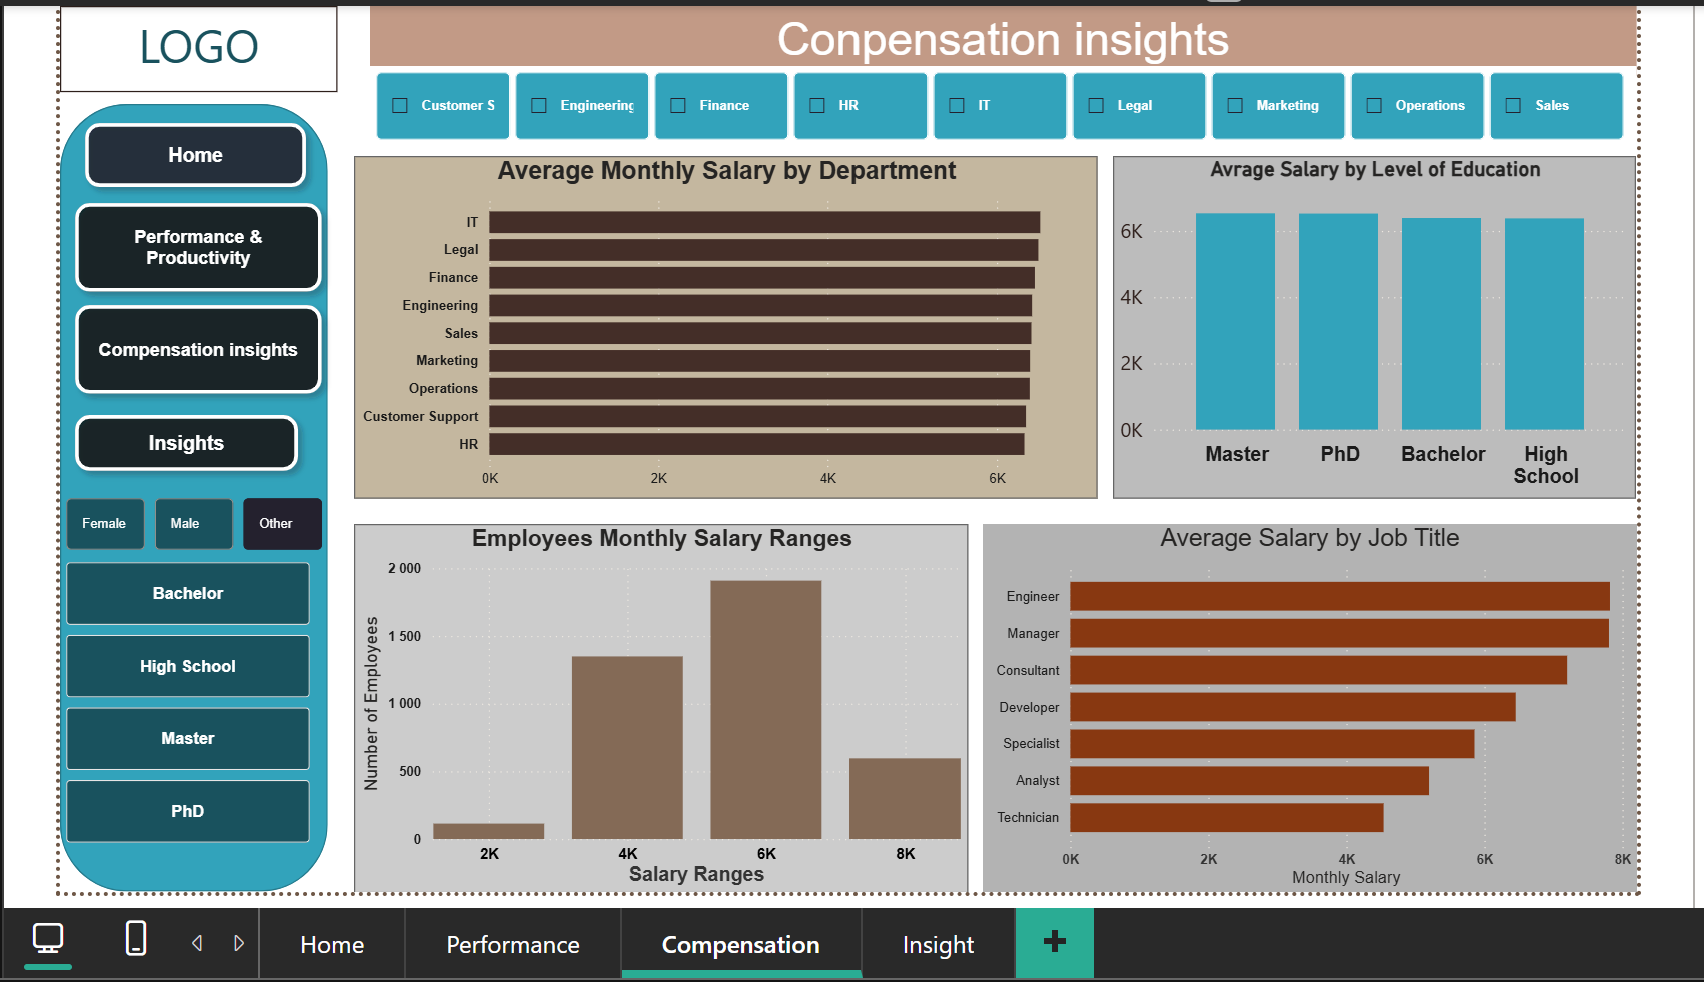

The dashboard page shown, as its layout file describes it:
{"tool":"powerbi","page":{"name":"Compensation","canvas":[1280,720],"ordinal":2},"visuals":[{"type":"clusteredColumnChart","title":"Avrage Salary by Level of Education","fields":{"Category":["Extended_Employee_Performance_and_Productivity_Data.Education_Level"],"Y":["Avg(Extended_Employee_Performance_and_Productivity_Data.Monthly_Salary)"]},"box":[855,121.7,425,278.3],"z":0},{"type":"clusteredBarChart","title":"Average Salary by Job Title","fields":{"Category":["Extended_Employee_Performance_and_Productivity_Data.Job_Title"],"Y":["Avg(Extended_Employee_Performance_and_Productivity_Data.Monthly_Salary)"]},"box":[750,421.7,531.7,300],"z":1000},{"type":"clusteredColumnChart","title":"Employees Monthly Salary Ranges","fields":{"Y":["CountNonNull(Extended_Employee_Performance_and_Productivity_Data.Employee_ID)"],"Category":["Extended_Employee_Performance_and_Productivity_Data.Monthly_Salary (bins)"]},"box":[238.3,421.7,498.3,300],"z":2000},{"type":"clusteredBarChart","title":"Average Monthly Salary by Department","fields":{"Category":["Extended_Employee_Performance_and_Productivity_Data.Department"],"Y":["Avg(Extended_Employee_Performance_and_Productivity_Data.Monthly_Salary)"]},"box":[238.3,121.7,603.3,278.3],"z":3000},{"type":"textbox","box":[251.7,0,1028.3,56.7],"z":4000},{"type":"shape","box":[0,80,217.5,640],"z":5000},{"type":"actionButton","box":[10.8,86.7,197.5,70],"z":6000},{"type":"actionButton","box":[3.3,150.8,218.3,90],"z":7000},{"type":"actionButton","box":[3.3,234.2,218.3,90],"z":8000},{"type":"advancedSlicerVisual","fields":{"Values":["Extended_Employee_Performance_and_Productivity_Data.Department"]},"box":[251.7,48.3,1028.3,65],"z":9000},{"type":"advancedSlicerVisual","fields":{"Values":["Extended_Employee_Performance_and_Productivity_Data.Gender"]},"box":[0,395,218.8,52.5],"z":10000},{"type":"advancedSlicerVisual","fields":{"Values":["Extended_Employee_Performance_and_Productivity_Data.Education_Level"]},"box":[0,447.5,208.8,240],"z":11000},{"type":"textbox","box":[0,0,225,56.7],"z":12000},{"type":"actionButton","box":[3.3,323.3,199.2,63.3],"z":13000},{"type":"textbox","box":[0,0,225.7,70],"z":14000}]}

Visuals, with their boxes on the page's 1280x720 design canvas (x1, y1, x2, y2). These are canvas units, not pixel positions in the 1704x982 screenshot, which may show the page scaled, cropped or inside an application window:
"Avrage Salary by Level of Education" clusteredColumnChart: x1=855, y1=122, x2=1280, y2=400
"Average Salary by Job Title" clusteredBarChart: x1=750, y1=422, x2=1282, y2=722
"Employees Monthly Salary Ranges" clusteredColumnChart: x1=238, y1=422, x2=737, y2=722
"Average Monthly Salary by Department" clusteredBarChart: x1=238, y1=122, x2=842, y2=400
textbox: x1=252, y1=0, x2=1280, y2=57
shape: x1=0, y1=80, x2=218, y2=720
actionButton: x1=11, y1=87, x2=208, y2=157
actionButton: x1=3, y1=151, x2=222, y2=241
actionButton: x1=3, y1=234, x2=222, y2=324
advancedSlicerVisual - Extended_Employee_Performance_and_Productivity_Data.Department: x1=252, y1=48, x2=1280, y2=113
advancedSlicerVisual - Extended_Employee_Performance_and_Productivity_Data.Gender: x1=0, y1=395, x2=219, y2=448
advancedSlicerVisual - Extended_Employee_Performance_and_Productivity_Data.Education_Level: x1=0, y1=448, x2=209, y2=688
textbox: x1=0, y1=0, x2=225, y2=57
actionButton: x1=3, y1=323, x2=202, y2=387
textbox: x1=0, y1=0, x2=226, y2=70
